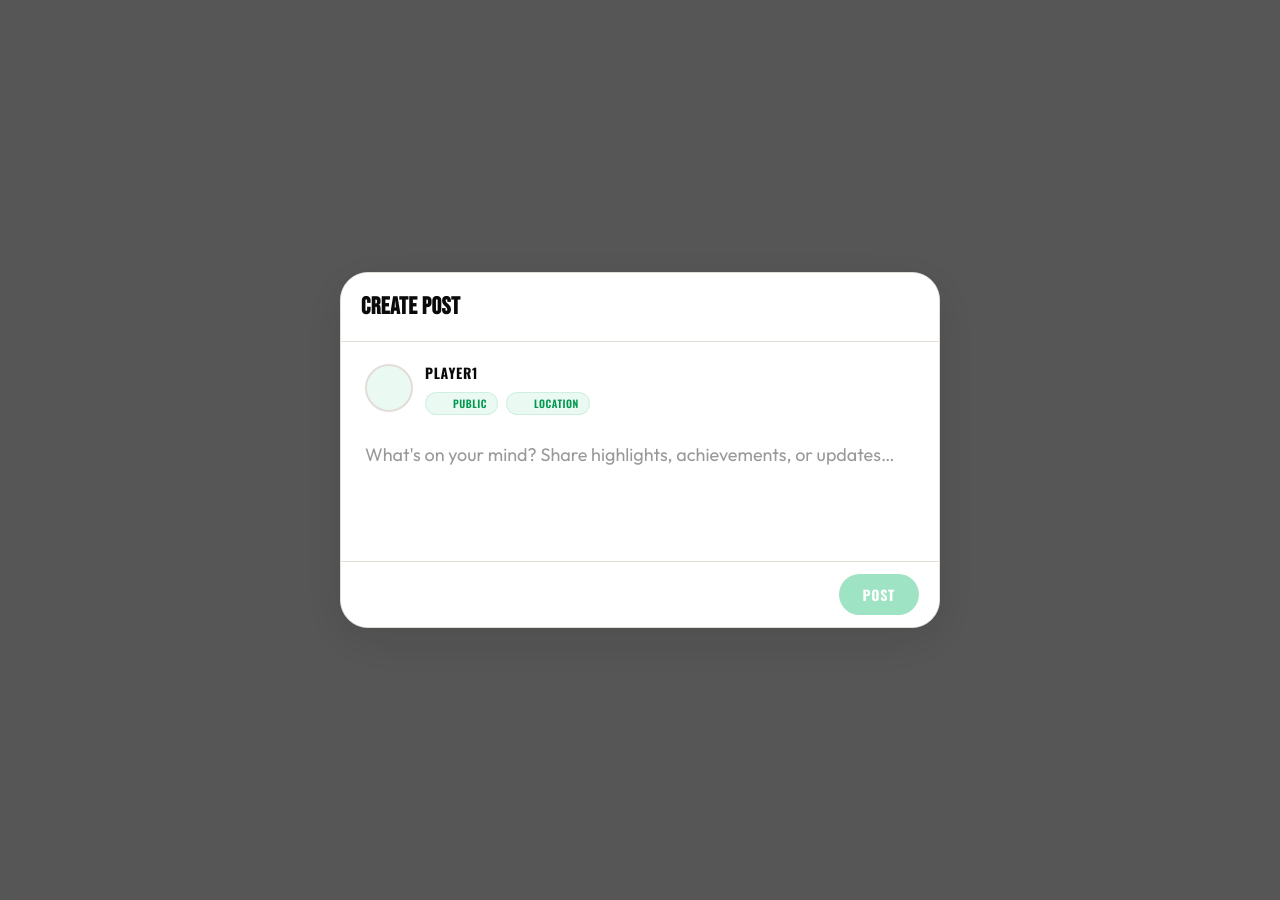
Scenario: CreatePostModal › offline: says so and queues nothing
Replace the text in the text box named "Post content" with "Match day at the stadium": (640, 486) [365,431,915,541]
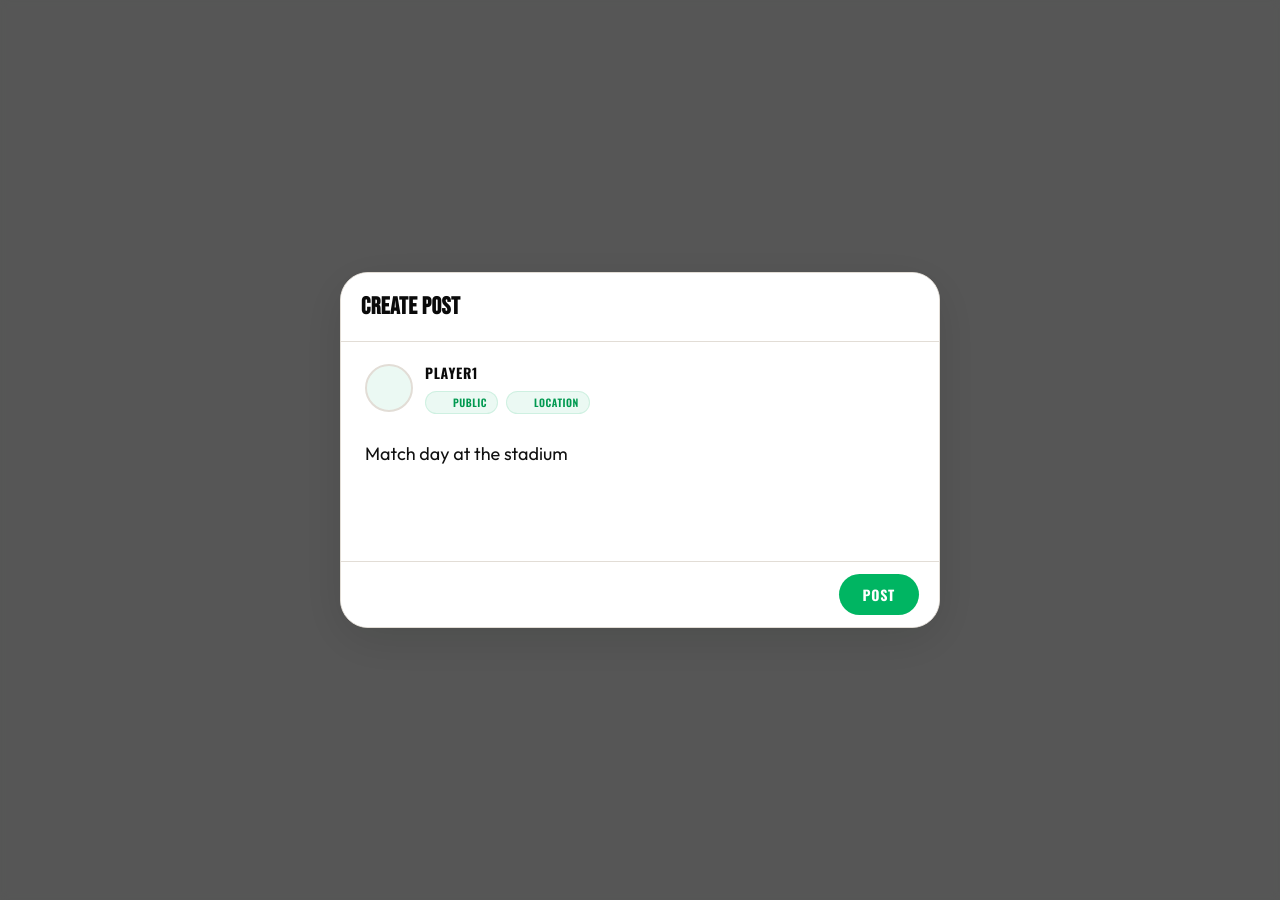
Click the button "Post": (879, 595) [839,574,919,615]
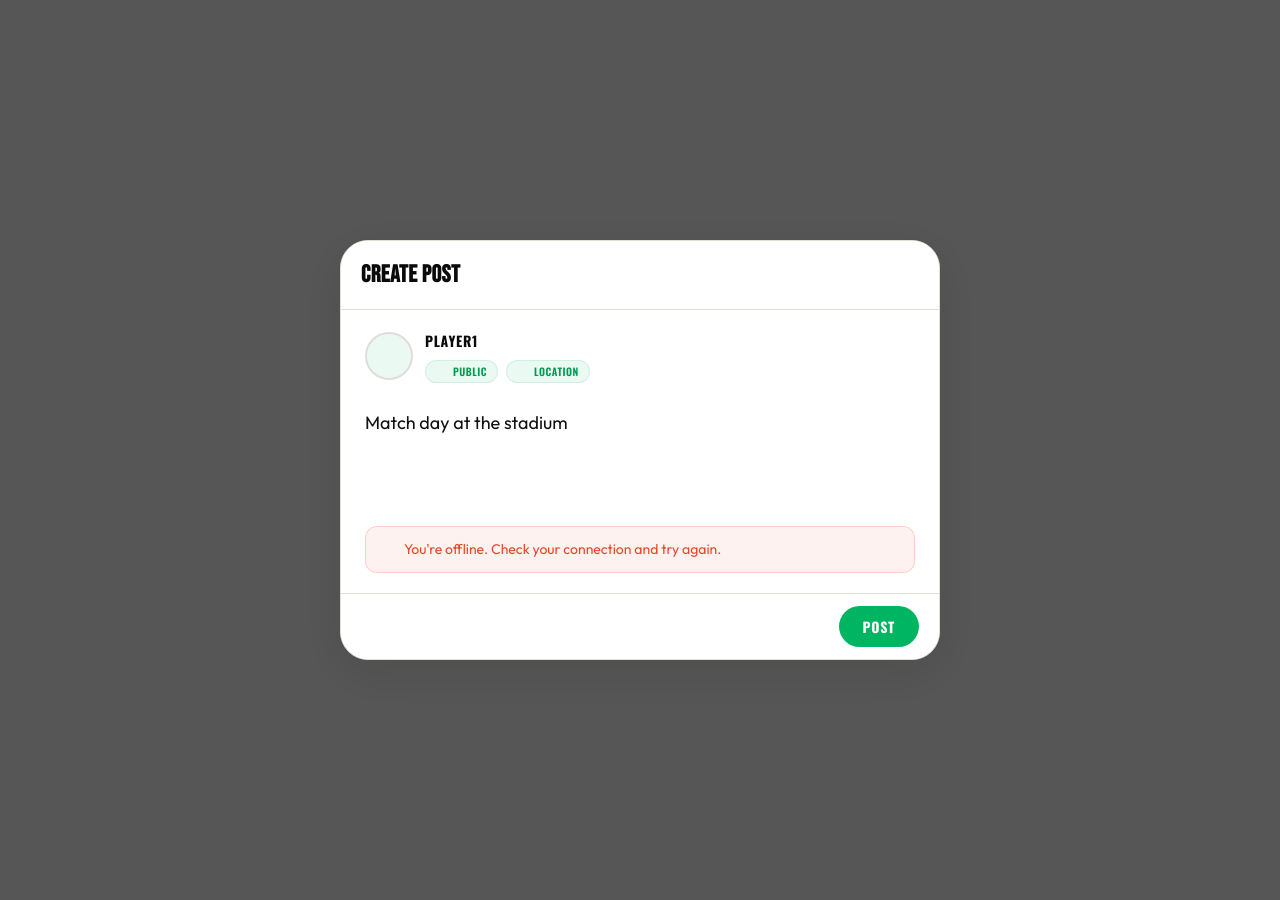
Now the message shows "You're offline", box [404,540,721,558]
